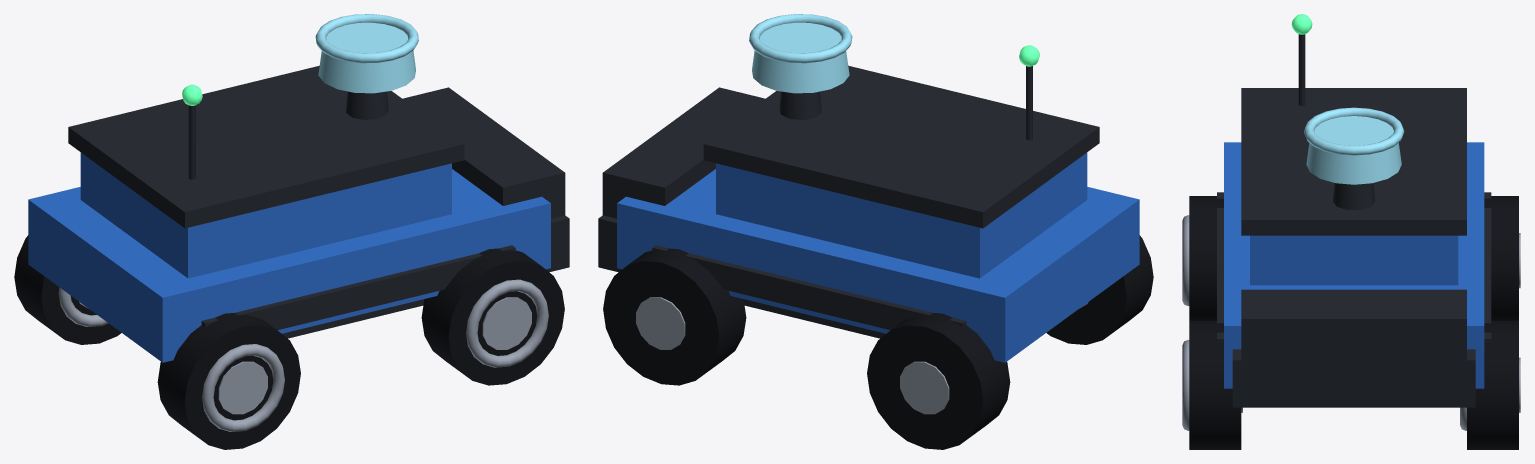
File: patrol-car.glb
The picture shows the model from 3 angles, left to right: view 1: azimuth 30°, elevation 25°; view 2: azimuth 150°, elevation 25°; view 3: azimuth 270°, elevation 25°; orthographic projection. The views are drawn at different scales.
Visible parts, largest first — view 1: DeckTrim, Chassis, Deck, Wheel_RL_Tire, Wheel_FL_Tire, Nose, SideSkirt_L, LidarBody, Wheel_RR_Tire, Wheel_FL_Ring, Wheel_RL_Ring, LidarHead (+7 smaller); view 2: DeckTrim, Chassis, Deck, Wheel_RR_Tire, Wheel_FR_Tire, Nose, SideSkirt_R, LidarBody, Wheel_RL_Tire, LidarHead, Wheel_RR_Hub, Wheel_FR_Hub (+3 smaller); view 3: DeckTrim, Nose, Deck, Chassis, Bumper, Wheel_FL_Tire, Wheel_FR_Tire, LidarBody, Wheel_RL_Tire, Wheel_RR_Tire, LidarHead, SideSkirt_R (+6 smaller).
Part boxes in pixels (x1=…): DeckTrim: x1=68, y1=65, x2=464, y2=228; Chassis: x1=28, y1=169, x2=550, y2=362; Deck: x1=80, y1=152, x2=451, y2=278; Wheel_RL_Tire: x1=157, y1=313, x2=300, y2=449; Wheel_FL_Tire: x1=421, y1=248, x2=564, y2=385; Nose: x1=402, y1=87, x2=565, y2=218; SideSkirt_L: x1=201, y1=245, x2=515, y2=330; LidarBody: x1=318, y1=22, x2=415, y2=93; Wheel_RR_Tire: x1=14, y1=235, x2=121, y2=344; Wheel_FL_Ring: x1=466, y1=279, x2=548, y2=367; Wheel_RL_Ring: x1=202, y1=344, x2=284, y2=431; LidarHead: x1=315, y1=14, x2=418, y2=63; DeckTrim: x1=703, y1=65, x2=1099, y2=228; Chassis: x1=617, y1=169, x2=1139, y2=362; Deck: x1=716, y1=152, x2=1087, y2=278; Wheel_RR_Tire: x1=867, y1=313, x2=1010, y2=449; Wheel_FR_Tire: x1=603, y1=248, x2=746, y2=385; Nose: x1=602, y1=87, x2=765, y2=218; SideSkirt_R: x1=652, y1=245, x2=966, y2=330; LidarBody: x1=752, y1=22, x2=849, y2=93; Wheel_RL_Tire: x1=1046, y1=235, x2=1153, y2=344; LidarHead: x1=749, y1=14, x2=852, y2=63; Wheel_RR_Hub: x1=900, y1=361, x2=949, y2=414; Wheel_FR_Hub: x1=636, y1=297, x2=685, y2=349; DeckTrim: x1=1241, y1=88, x2=1466, y2=235; Nose: x1=1241, y1=289, x2=1466, y2=377; Deck: x1=1250, y1=235, x2=1458, y2=285; Chassis: x1=1224, y1=142, x2=1484, y2=388; Bumper: x1=1232, y1=349, x2=1475, y2=407; Wheel_FL_Tire: x1=1189, y1=320, x2=1241, y2=449; Wheel_FR_Tire: x1=1467, y1=320, x2=1518, y2=449; LidarBody: x1=1306, y1=116, x2=1401, y2=184; Wheel_RL_Tire: x1=1189, y1=196, x2=1223, y2=320; Wheel_RR_Tire: x1=1484, y1=196, x2=1518, y2=320; LidarHead: x1=1304, y1=107, x2=1404, y2=155; SideSkirt_R: x1=1484, y1=192, x2=1491, y2=342.
Bounding box in the file's own units: 0.53 × 0.392 × 0.39.
